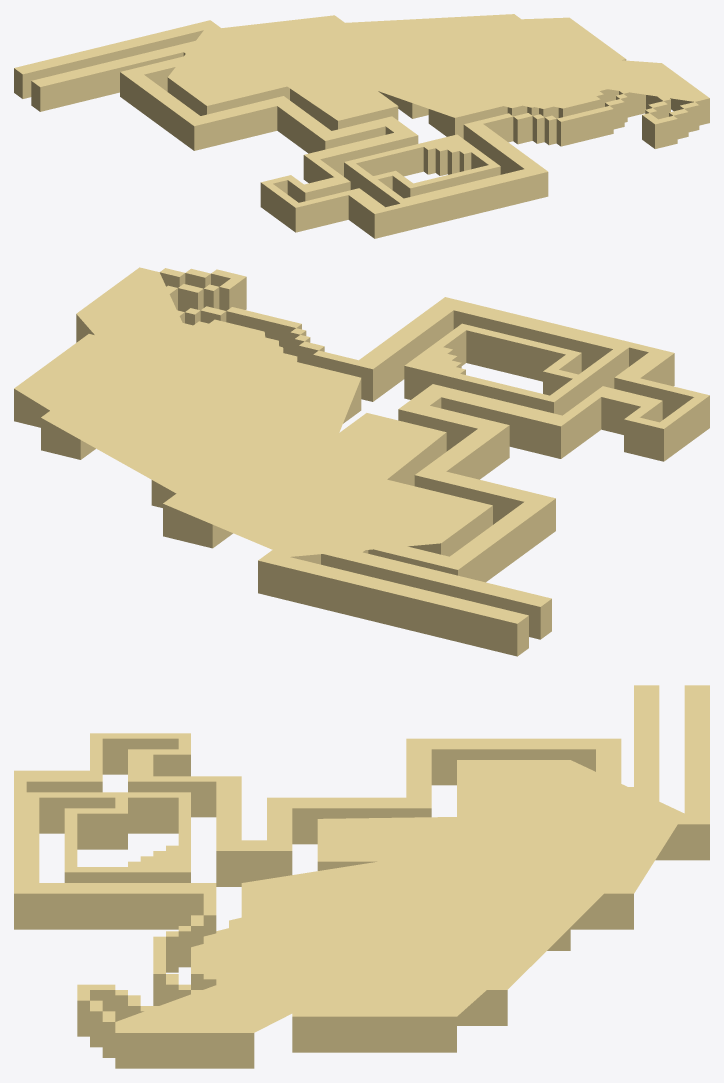
File: maze.fbx
3 views of the same model, one above another, from view 1: azimuth 30°, elevation 25°; view 2: azimuth 150°, elevation 25°; view 3: azimuth 270°, elevation 25° (orthographic). The views are drawn at different scales.
Parts seen in each view (by area): view 1: Maze:Mesh; view 2: Maze:Mesh; view 3: Maze:Mesh.
Part boxes in pixels (bbox=[...]): Maze:Mesh: bbox=[14, 14, 709, 238]; Maze:Mesh: bbox=[14, 267, 709, 656]; Maze:Mesh: bbox=[14, 685, 709, 1068].
Size of the model in its own units: 21.81 by 1.05 by 18.45.
